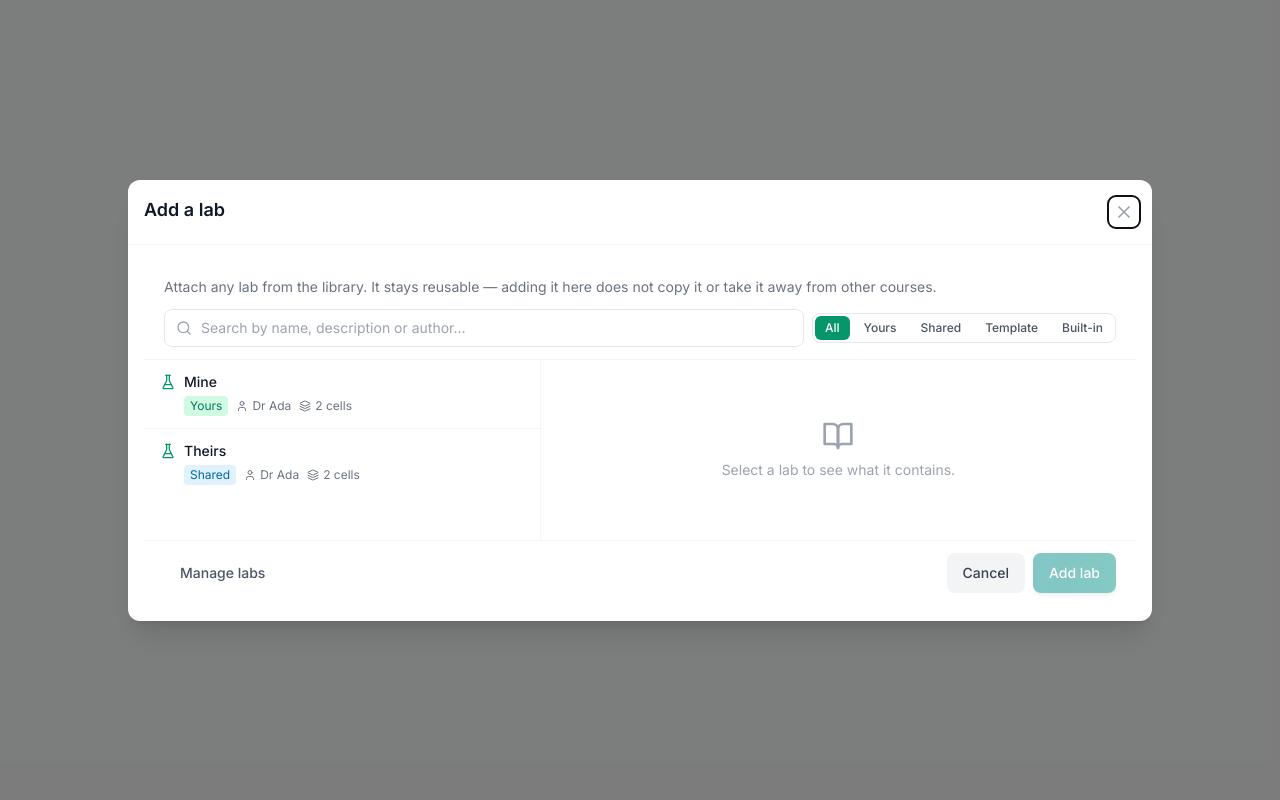
Test: LabPickerModal library › narrows to just your labs on the Yours filter
Click the button "Yours". click: (880,328)
box: left=854, top=316, right=906, bottom=340
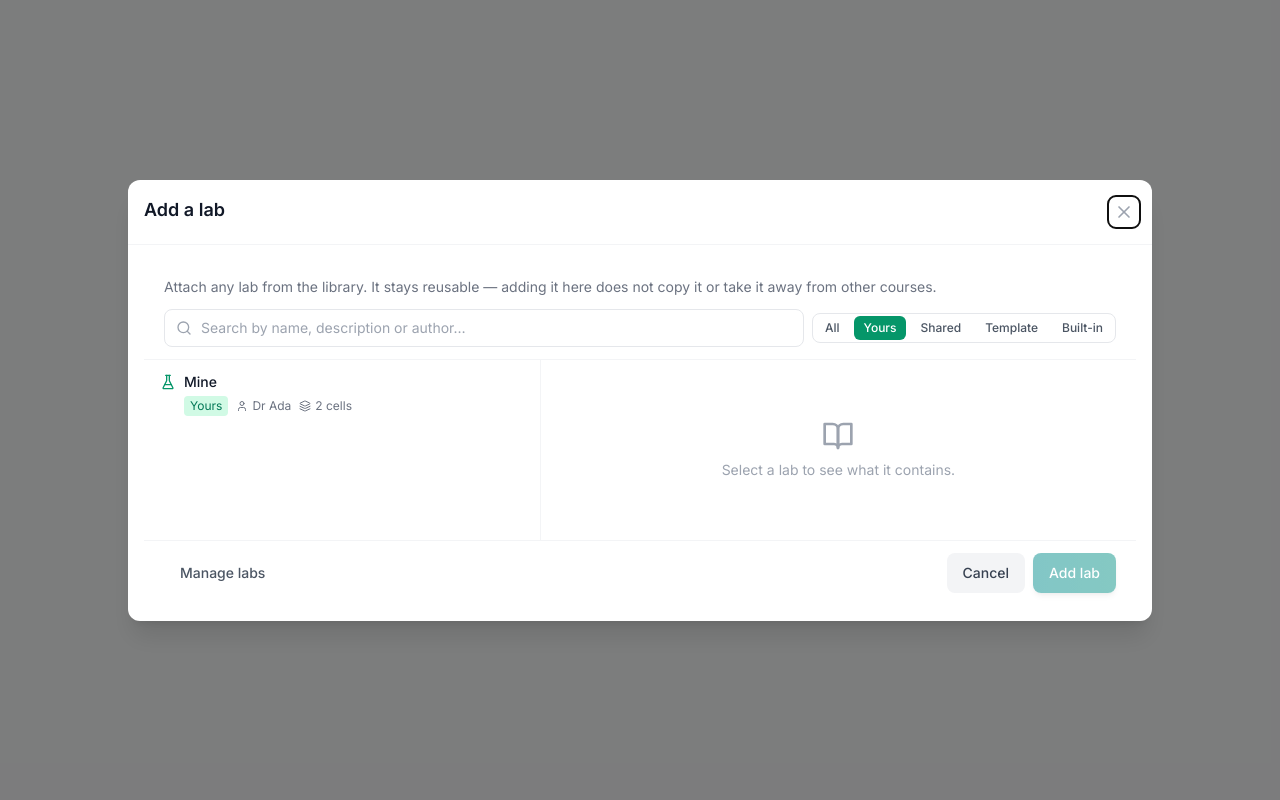
Expected: the text "Mine" is shown, left=184, top=372, right=217, bottom=392
Result: the button "Theirs" is gone
